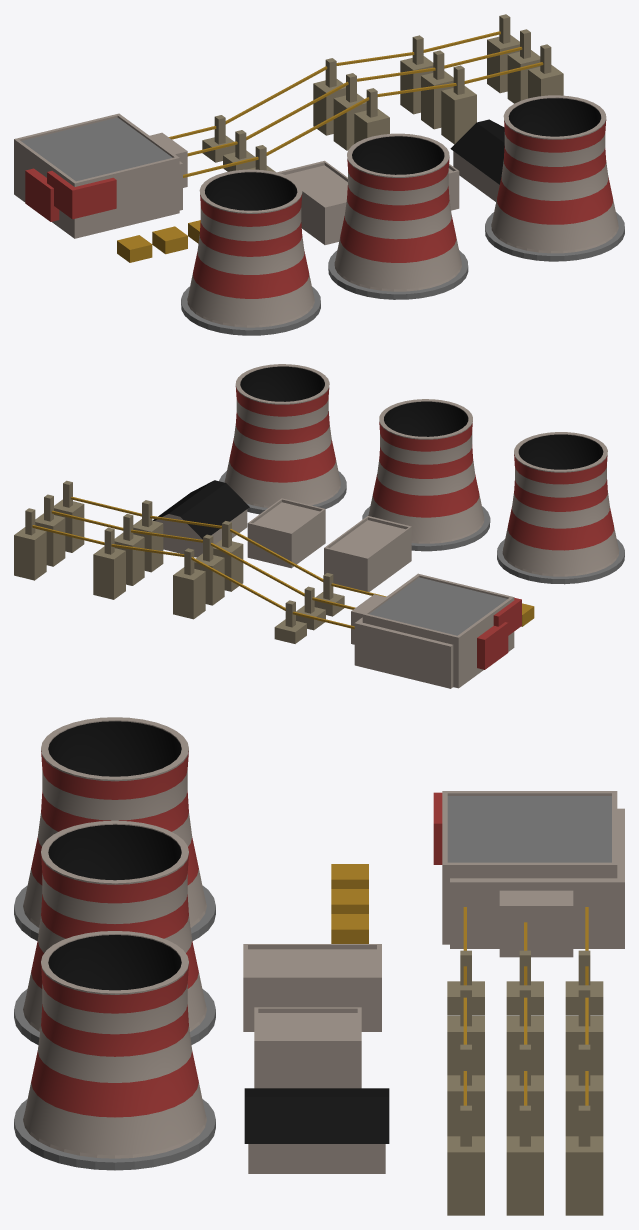
File: power_plant.fbx
3 views of the same model, one above another, from view 1: azimuth 30°, elevation 25°; view 2: azimuth 150°, elevation 25°; view 3: azimuth 270°, elevation 25° (orthographic). The views are drawn at different scales.
Visible parts, largest first — view 1: power_plant; view 2: power_plant; view 3: power_plant.
Part boxes in pixels (bbox=[...]): power_plant: bbox=[14, 14, 624, 335]; power_plant: bbox=[14, 364, 624, 688]; power_plant: bbox=[14, 717, 624, 1215].
Size of the model in its own units: 756 by 556 by 175.
